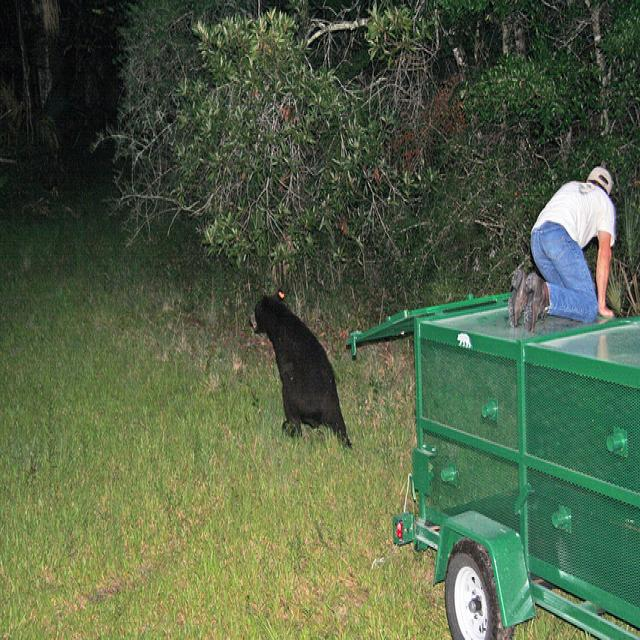Bear: (242, 281, 353, 451)
